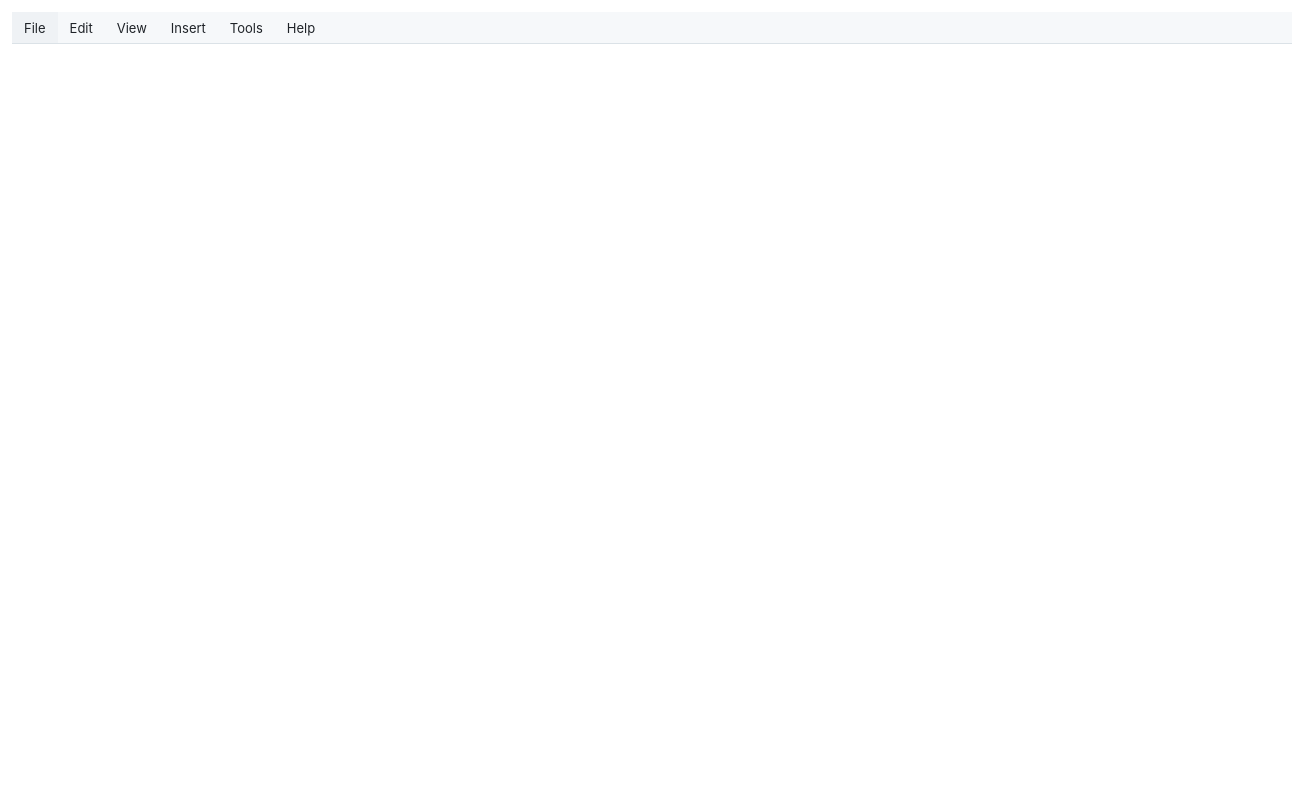
menu submenus › closes the submenu when a different top-level row is hovered
Press the mouse on the button with class "menubar-button" showing "Insert" at (188, 28), box x1=159 y1=12 x2=218 y2=43
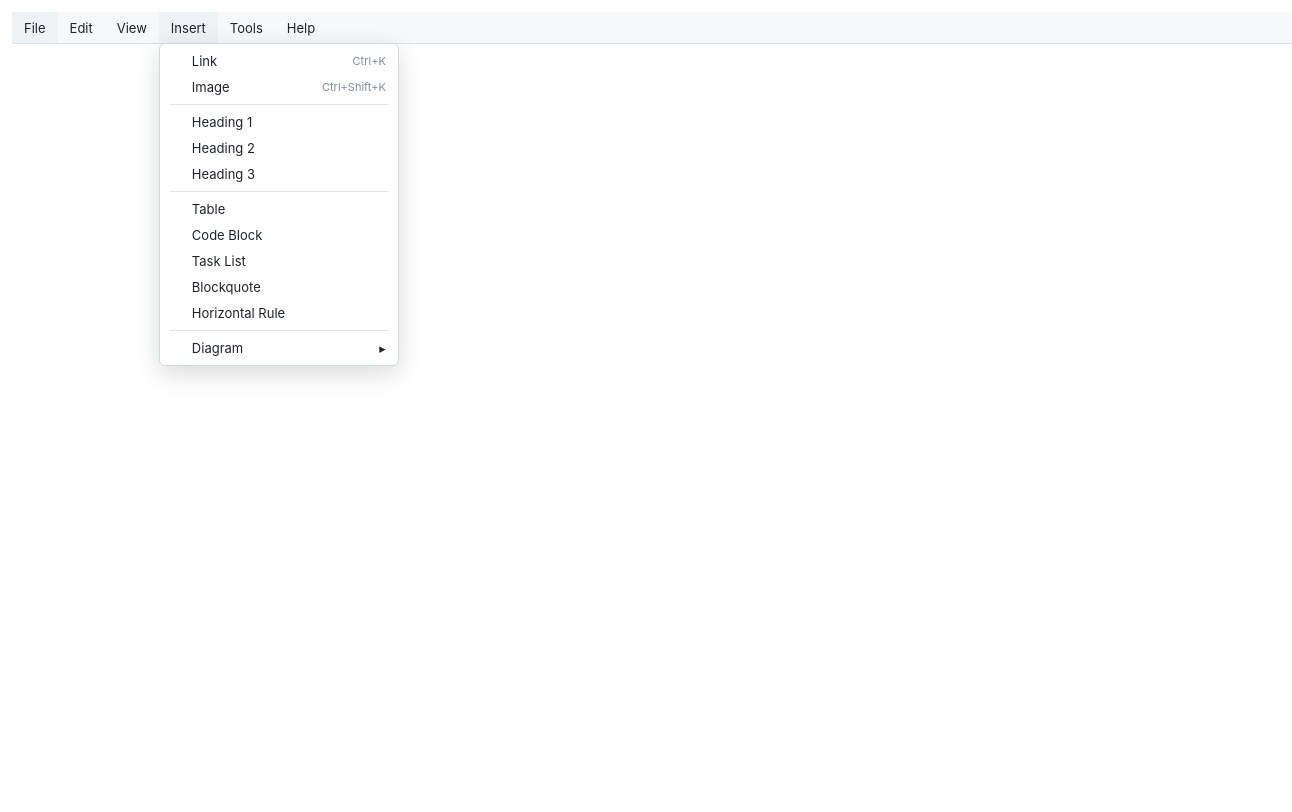
Hover over the button with class "menu-label".
mouse_move(279, 348)  # box x1=164 y1=335 x2=394 y2=361
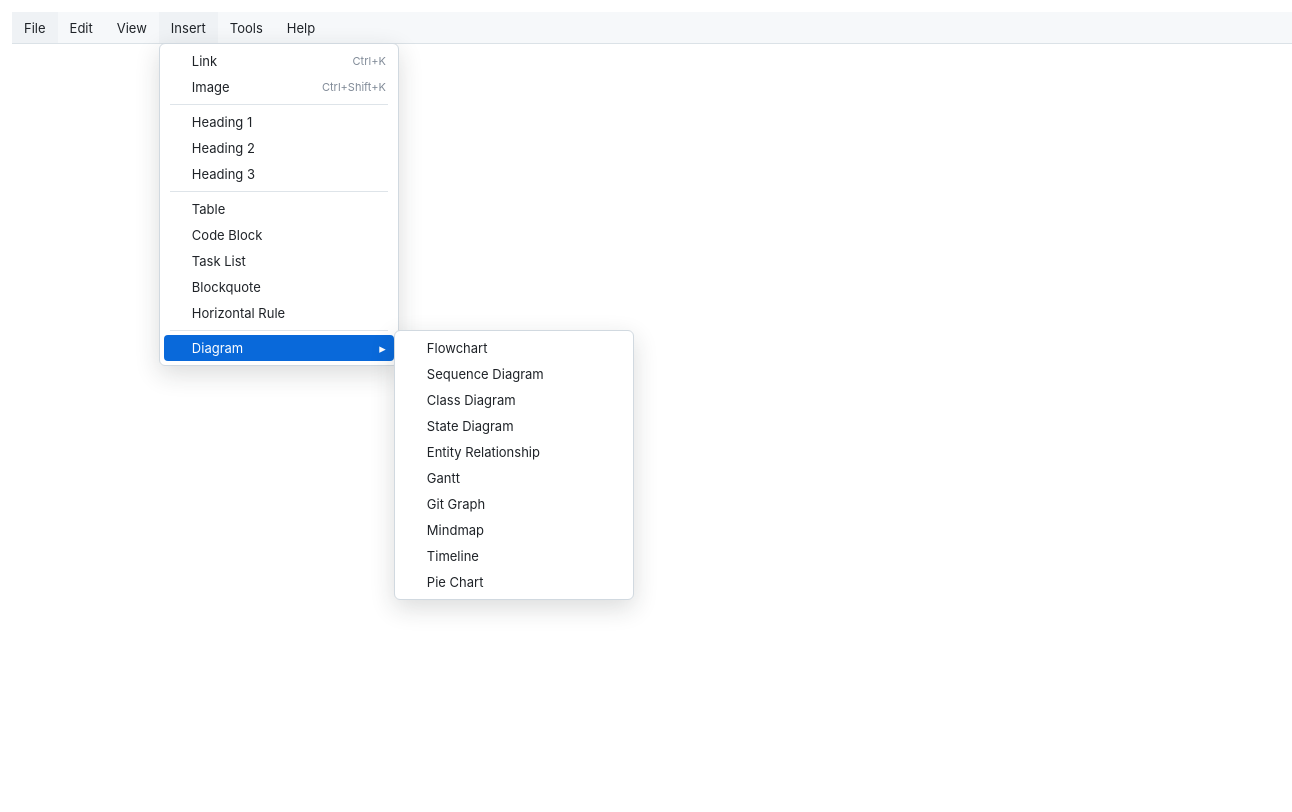
Expected: the element with class "menu-submenu" is shown, x1=394 y1=330 x2=634 y2=600
Hover over the button with class "menu-label".
mouse_move(279, 61)  # box x1=164 y1=48 x2=394 y2=74
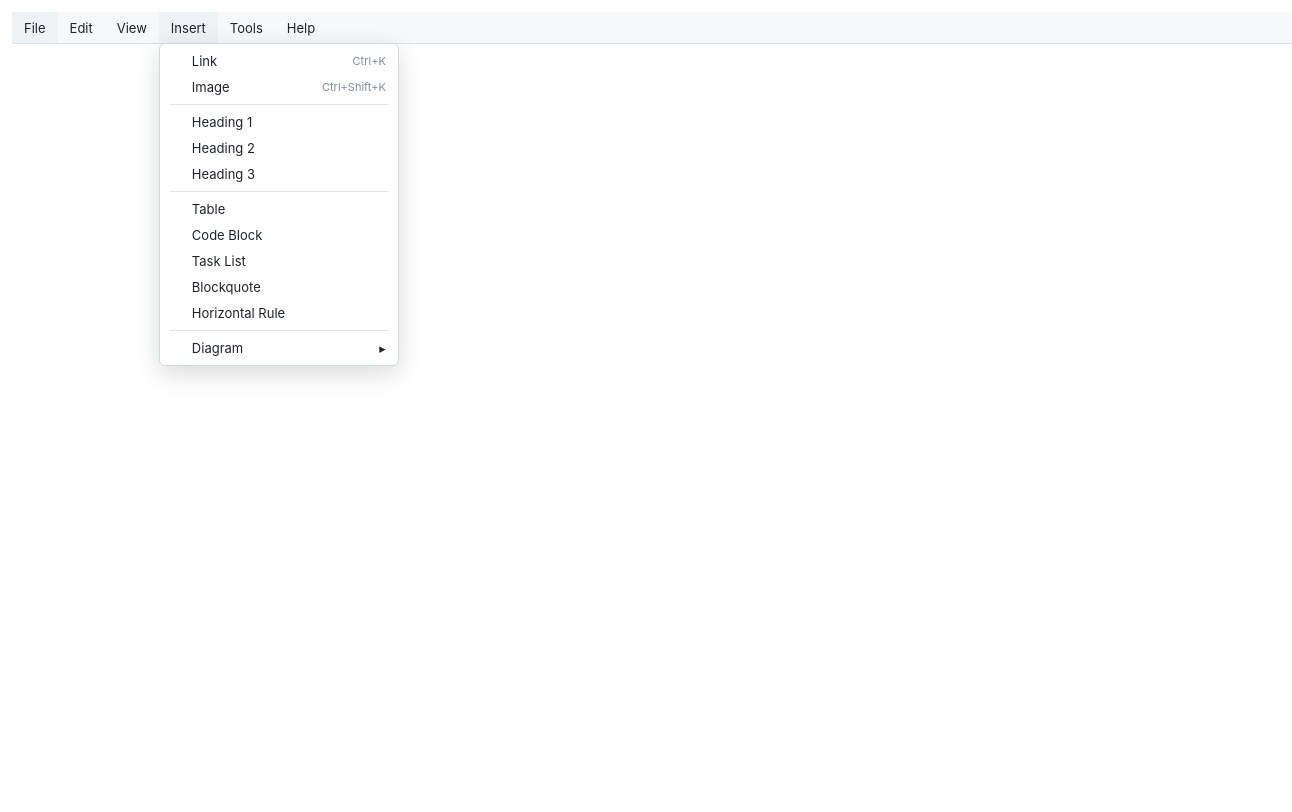
Expected: the element with class "menu-submenu" is gone
